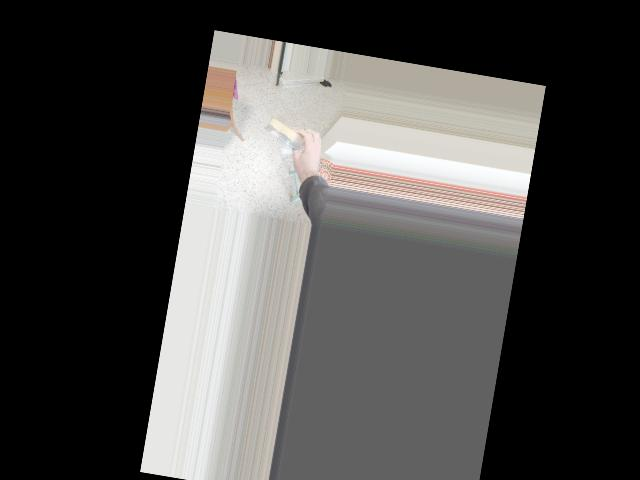cheese: (257, 101, 332, 165)
